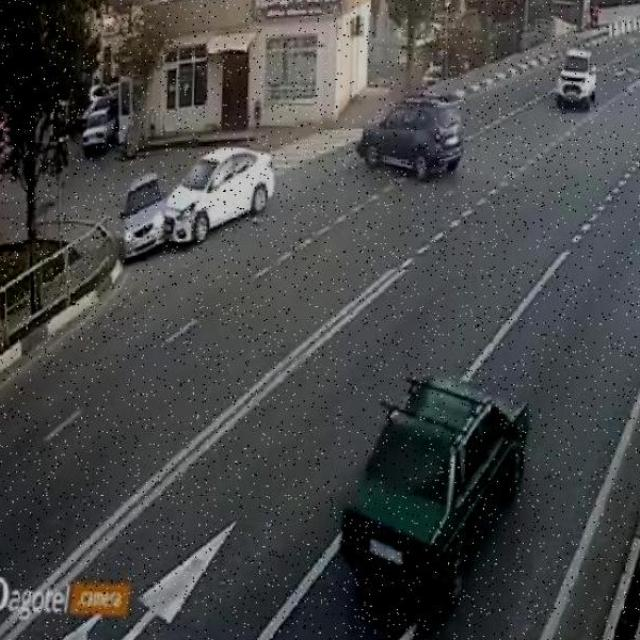accident: (97, 126, 283, 262)
